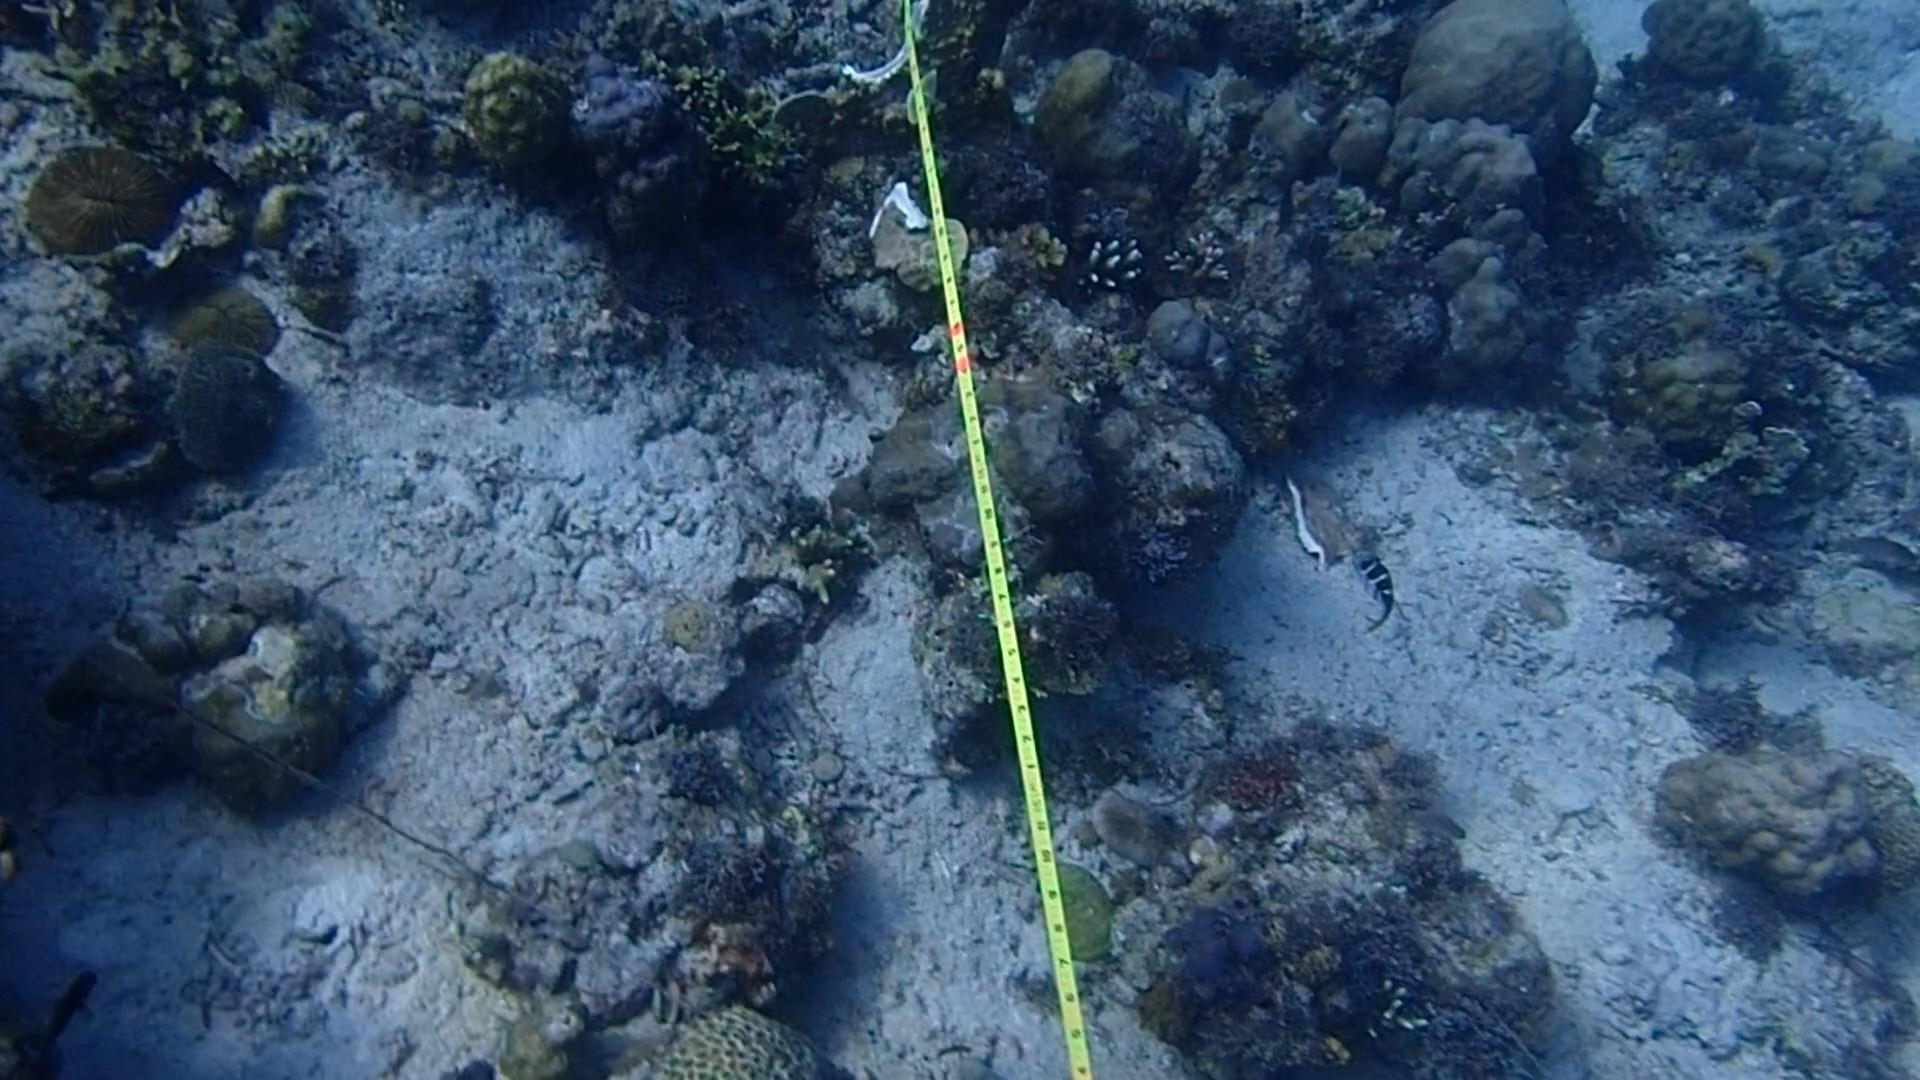Striped Fish: (1338, 546, 1425, 636)
